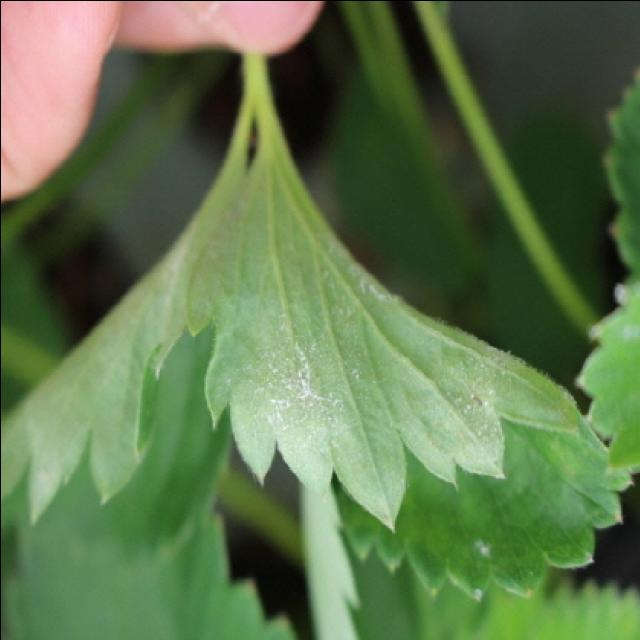Powdery Mildew Leaf: (182, 111, 634, 601)
